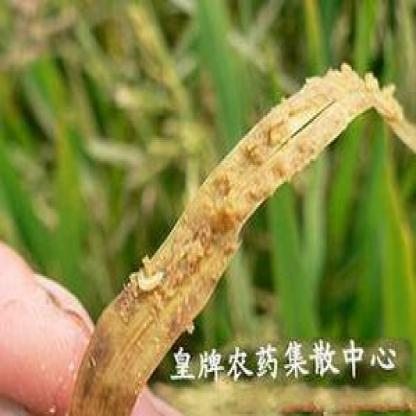whorl-maggot: (132, 266, 168, 296)
